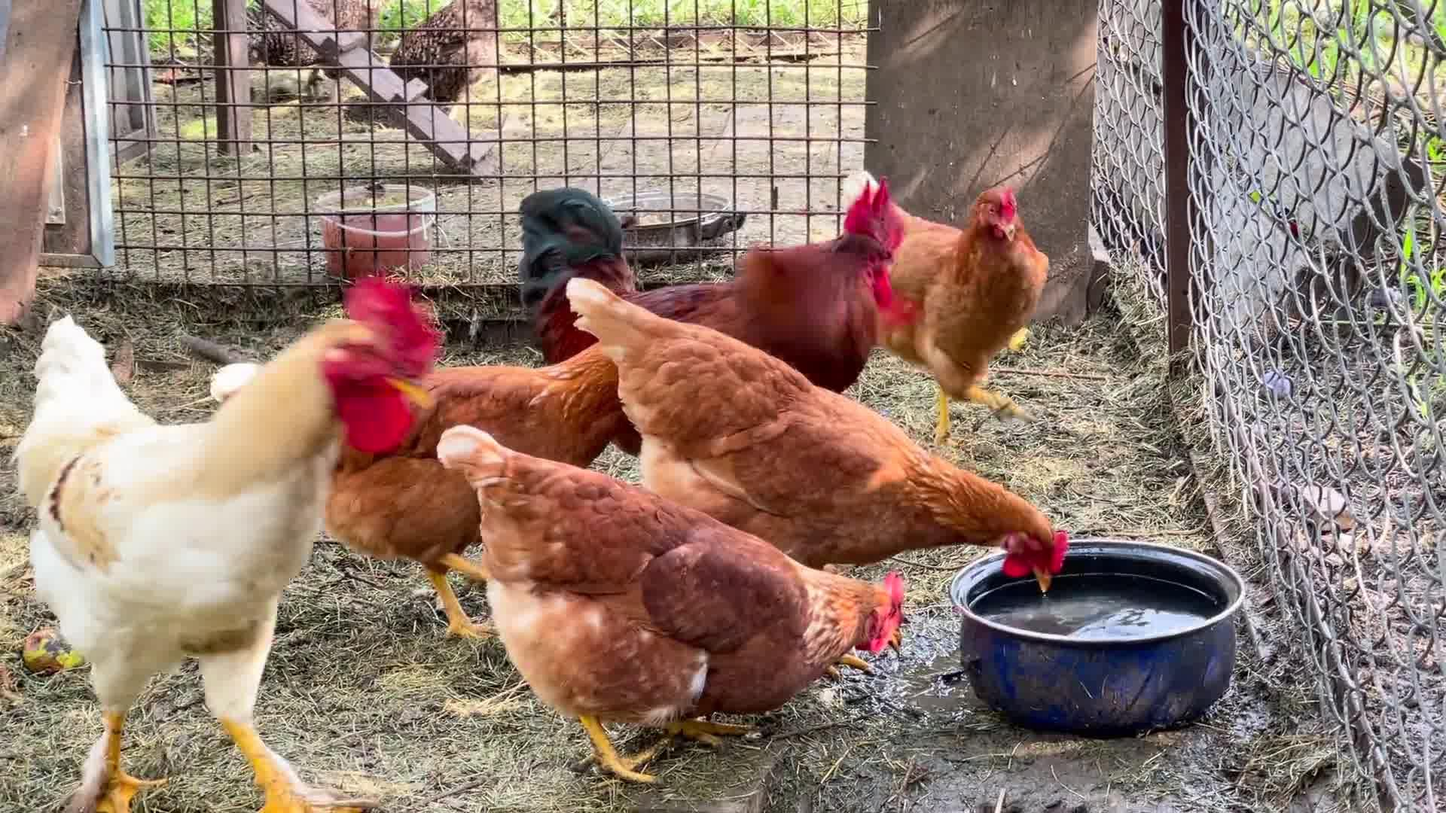Normal: (27, 283, 406, 767), (441, 429, 918, 770), (522, 187, 918, 386), (358, 377, 566, 651), (891, 185, 1057, 416)
